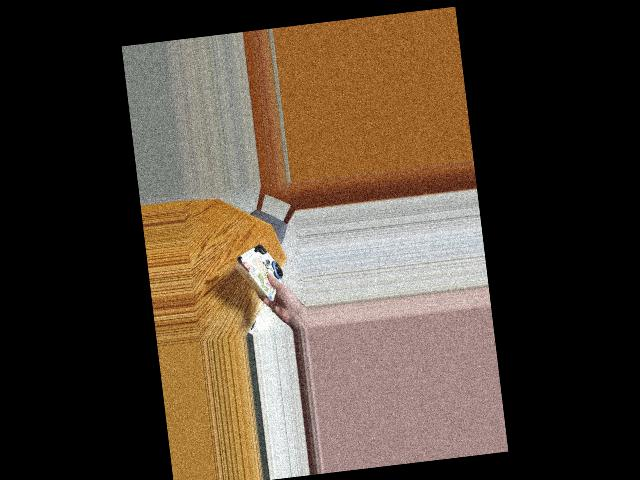cheese: (223, 238, 286, 301)
